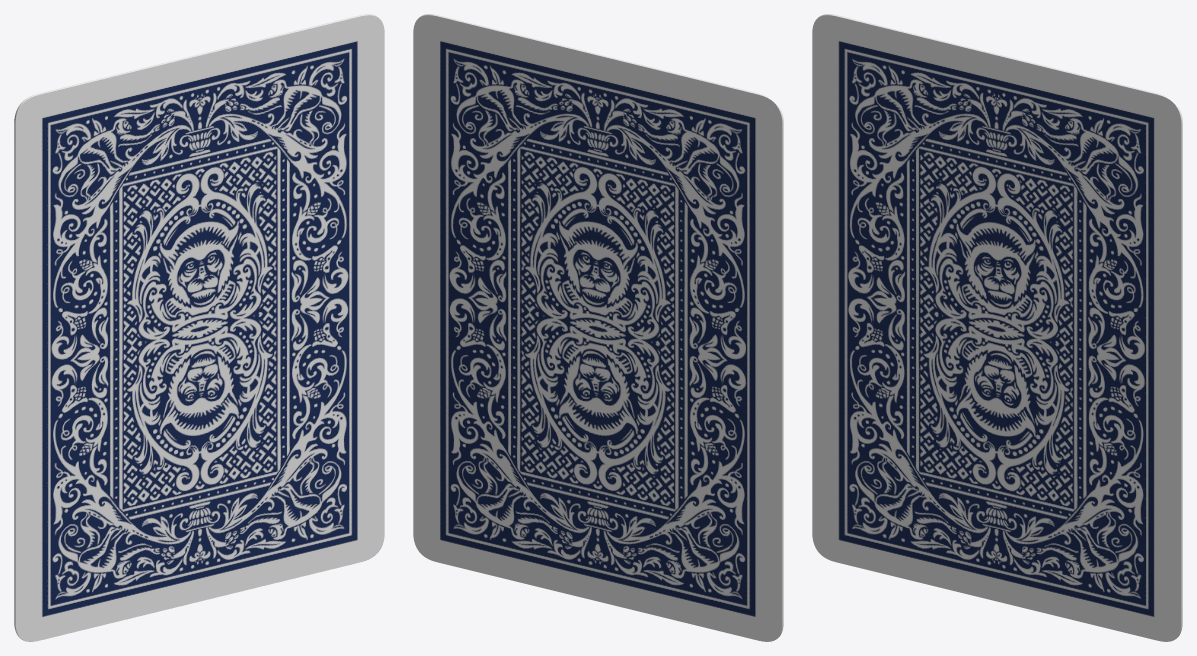
The model's file is master_card.fbx.
The picture shows the model from 3 angles, left to right: view 1: azimuth 30°, elevation 25°; view 2: azimuth 150°, elevation 25°; view 3: azimuth 330°, elevation 25°; orthographic projection.
Visible parts, largest first — view 1: card013; view 2: card013; view 3: card013.
Part boxes in pixels (x1,y1,x2,y2): card013: (14, 14, 384, 641); card013: (413, 14, 783, 641); card013: (812, 14, 1182, 641).
Bounding box in the file's own units: 6.3 × 8.9 × 0.04.
1 material, 1 textured.
